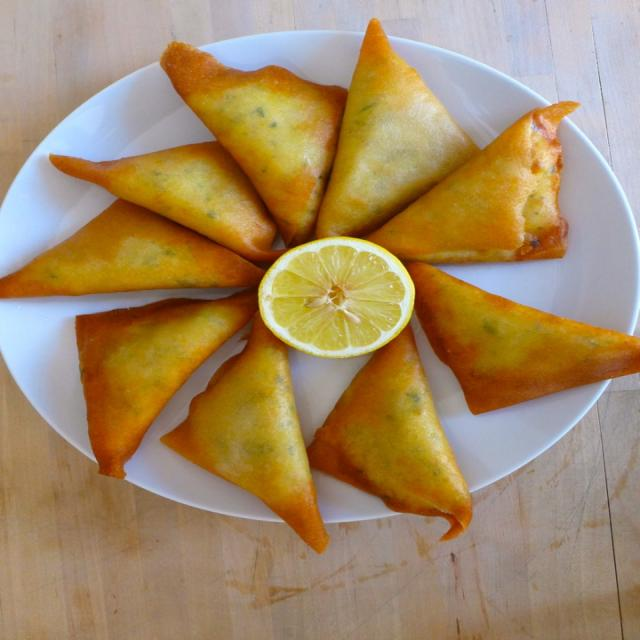brik: (196, 314, 361, 550), (381, 106, 625, 258), (164, 41, 338, 228), (28, 128, 290, 248), (422, 283, 640, 421), (332, 347, 475, 533), (72, 291, 194, 494), (0, 213, 250, 304), (323, 30, 430, 221)
